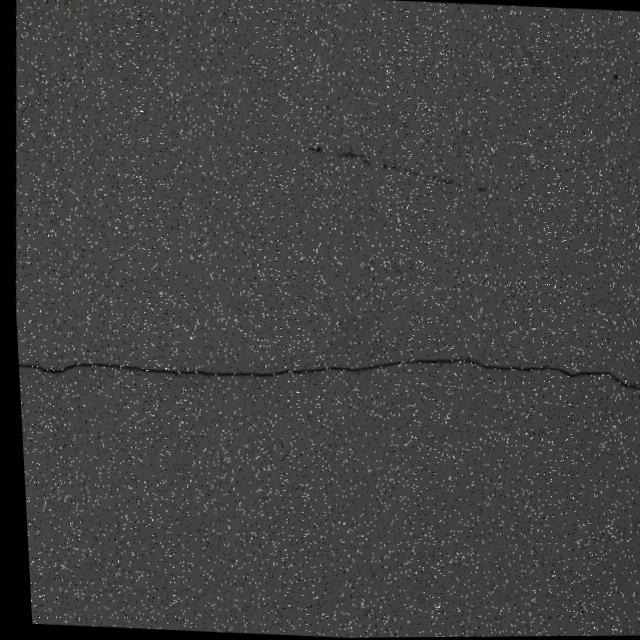Crack: (13, 327, 640, 426)
